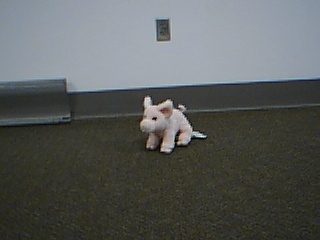piggy: (139, 94, 193, 154)
